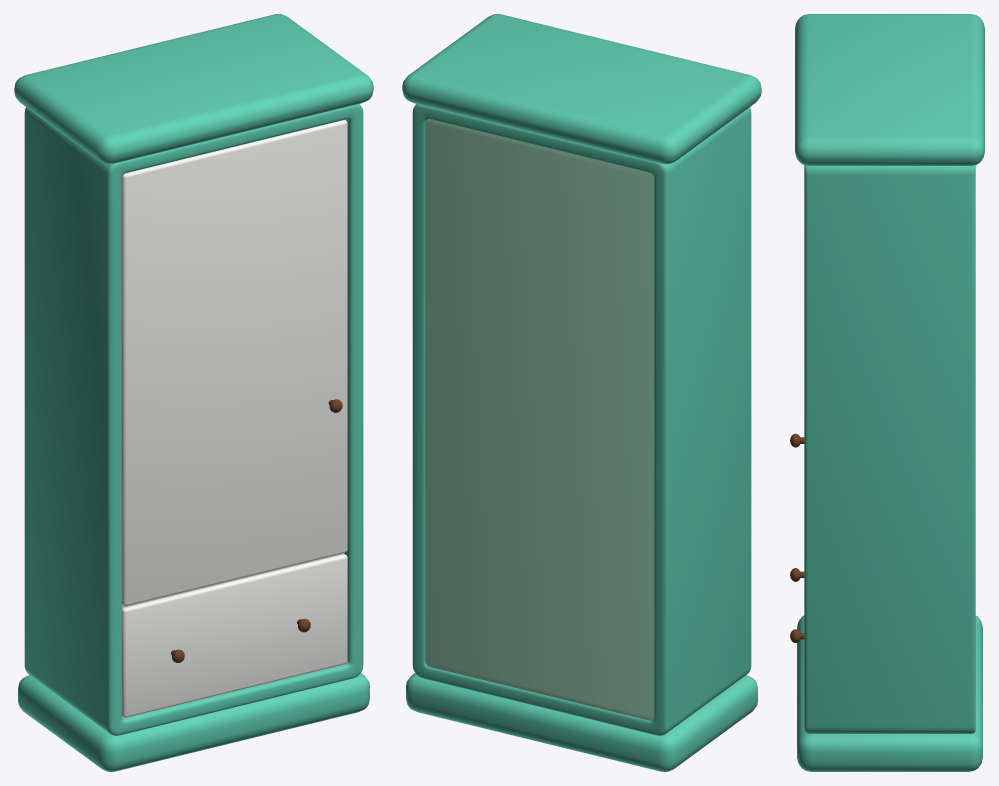
Rendered from armario_porta_gaveta_rodape_verde_agua.glb.
3 renders of one model, left to right at view 1: azimuth 30°, elevation 25°; view 2: azimuth 150°, elevation 25°; view 3: azimuth 270°, elevation 25°, orthographic.
Visible parts, largest first — view 1: armario_porta_gaveta_rodape_verde_agua, porta_1, gaveta_1; view 2: armario_porta_gaveta_rodape_verde_agua; view 3: armario_porta_gaveta_rodape_verde_agua.
Part boxes in pixels (x1,y1,x2,y2): armario_porta_gaveta_rodape_verde_agua: (14,14,373,771); porta_1: (122,120,347,606); gaveta_1: (122,554,347,717); armario_porta_gaveta_rodape_verde_agua: (402,14,761,771); armario_porta_gaveta_rodape_verde_agua: (795,14,984,771).
Bounding box in the file's own units: 0.775 × 1.72 × 0.4771.
Materials: 1 (1 with a texture image).
